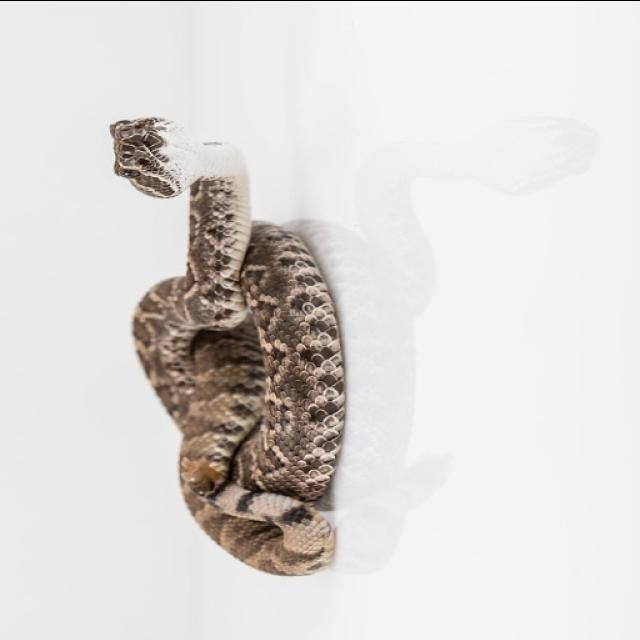snake: (100, 100, 350, 588)
